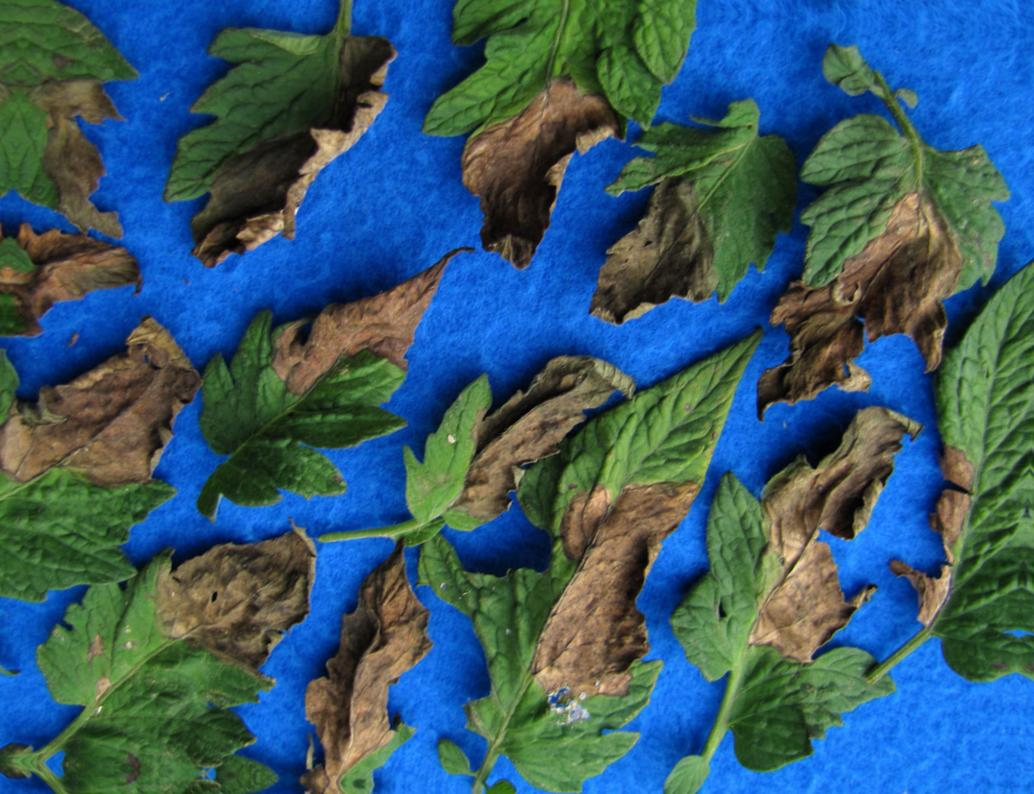Tomato leaf late blight: (472, 334, 744, 794), (744, 46, 1018, 434), (666, 387, 917, 794), (2, 516, 320, 781), (418, 0, 718, 275), (153, 0, 413, 289), (179, 265, 445, 524), (555, 102, 832, 344), (889, 246, 1034, 702), (355, 333, 640, 555), (10, 0, 141, 242), (2, 215, 152, 354)
